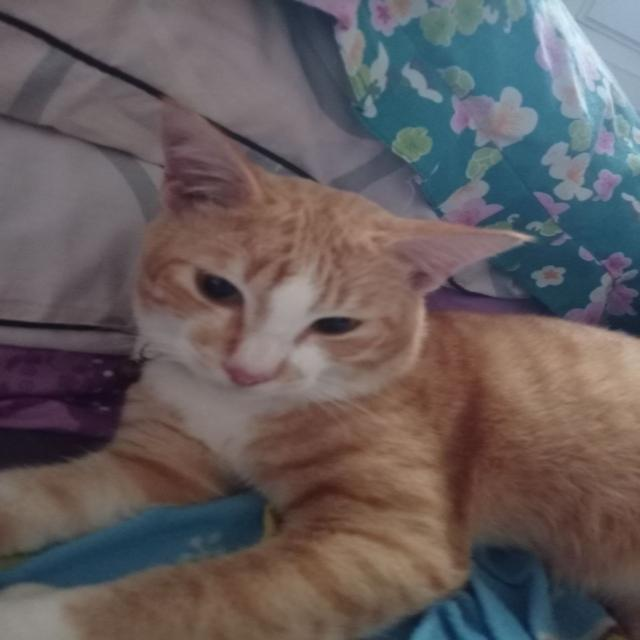da khoe manh: (400, 335, 640, 521)
